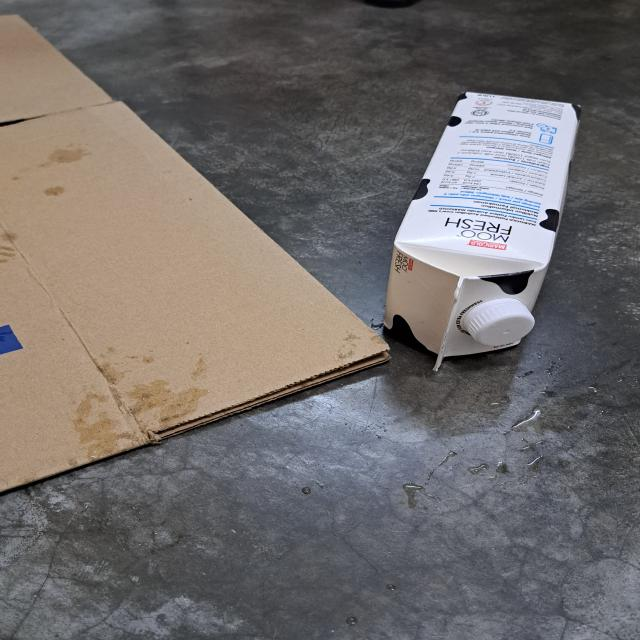cardboard: (0, 9, 392, 496)
drink carton: (387, 90, 580, 372)
plastic bottle cap: (462, 295, 533, 348)
